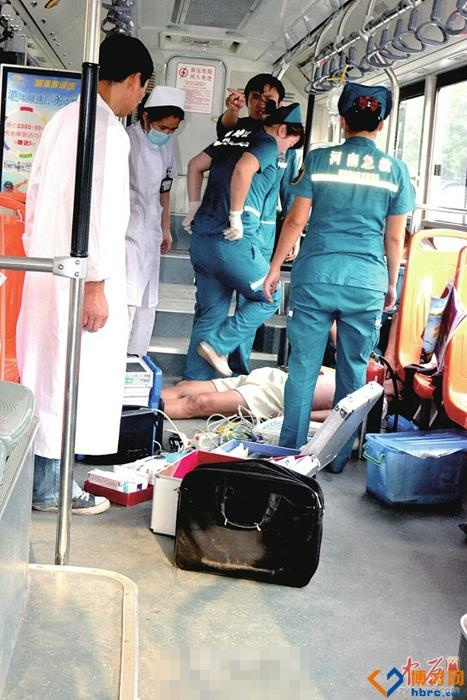falling: (139, 345, 372, 444)
